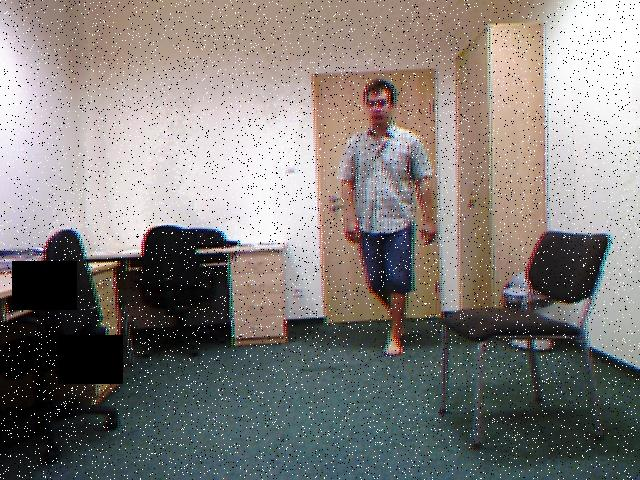walking: (341, 80, 436, 357)
